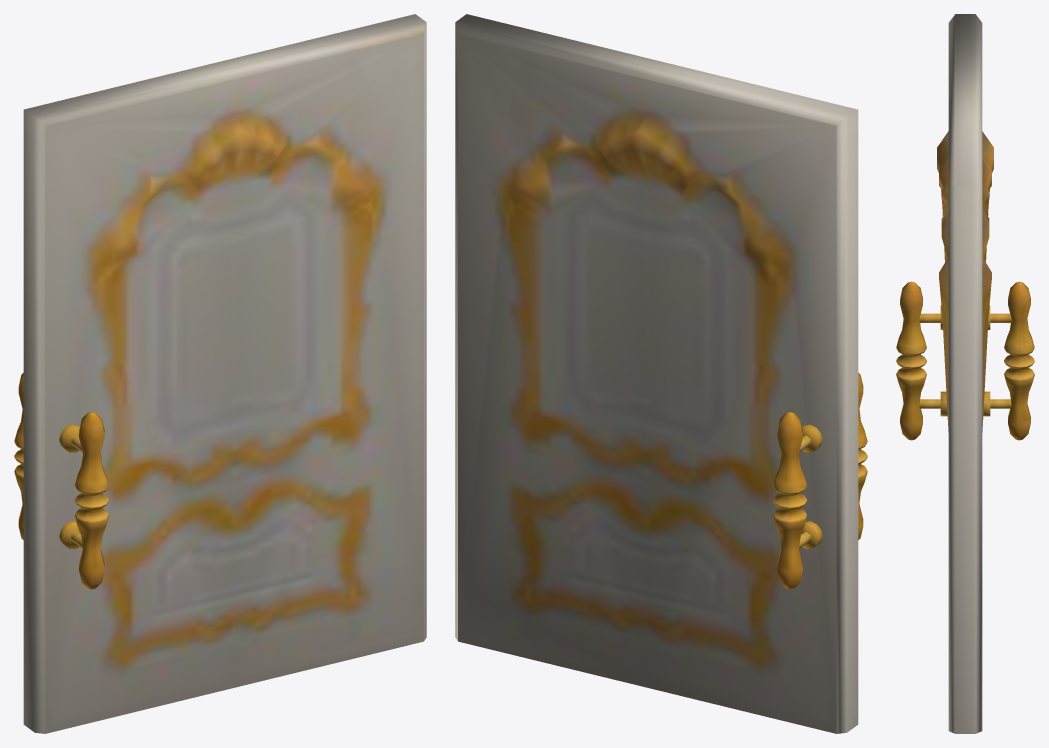
Rendered from door-carving-s.glb.
3 views of the same model, side by side, from view 1: azimuth 30°, elevation 25°; view 2: azimuth 150°, elevation 25°; view 3: azimuth 270°, elevation 25° (orthographic). The views are drawn at different scales.
Bounding box in the file's own units: 12 × 18 × 4.13.
1 material, 1 textured.
